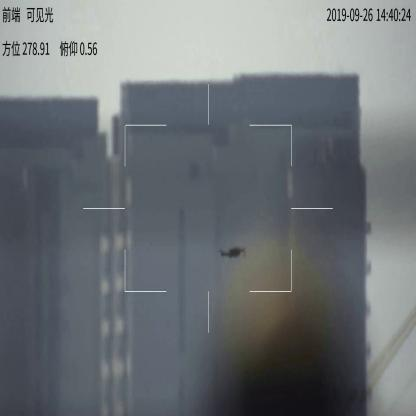uav: (217, 244, 250, 262)
